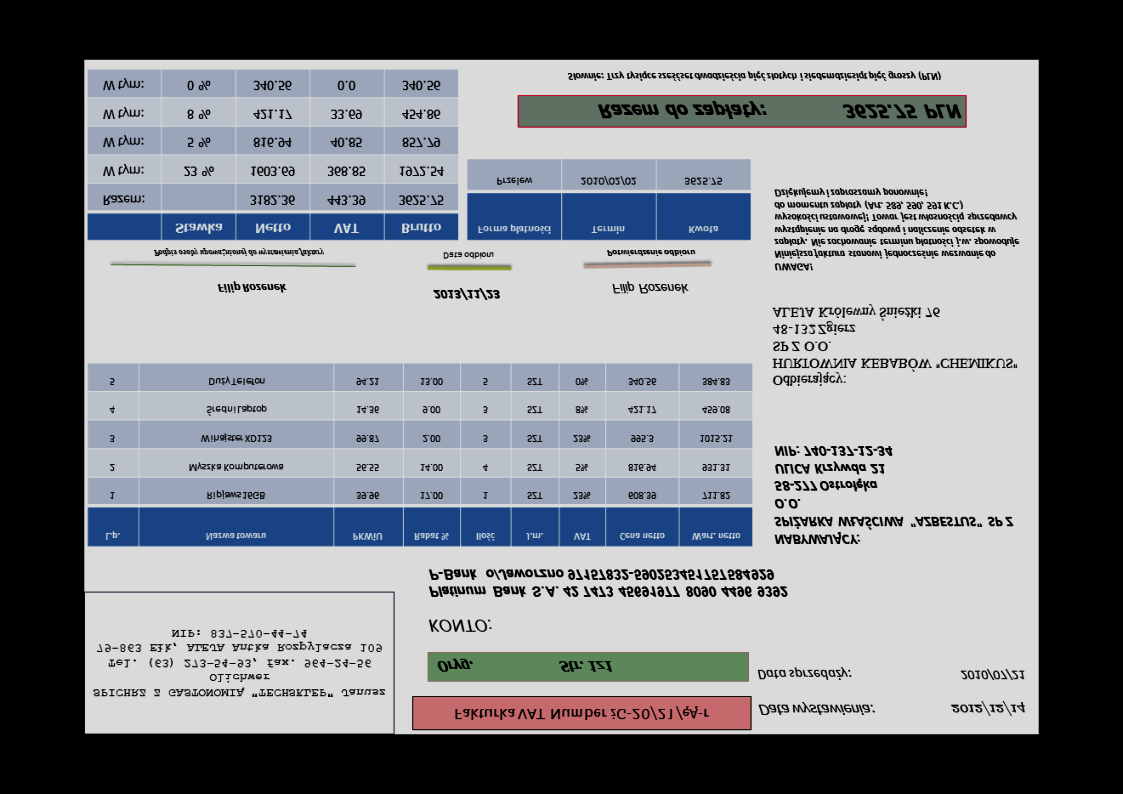Table: (86, 362, 754, 548), (85, 69, 459, 241), (466, 156, 753, 243)
TextBox: (772, 442, 1018, 547), (92, 625, 386, 701), (773, 186, 1021, 274), (770, 304, 1018, 388), (427, 564, 792, 601), (595, 99, 961, 124), (564, 68, 944, 83), (451, 703, 712, 724), (435, 656, 615, 676), (151, 247, 326, 259), (755, 701, 878, 718), (754, 665, 853, 682), (609, 280, 691, 298), (950, 700, 1027, 717), (957, 666, 1027, 684), (216, 280, 287, 297), (430, 286, 501, 303), (427, 616, 493, 634), (604, 247, 698, 258), (439, 248, 495, 263)
